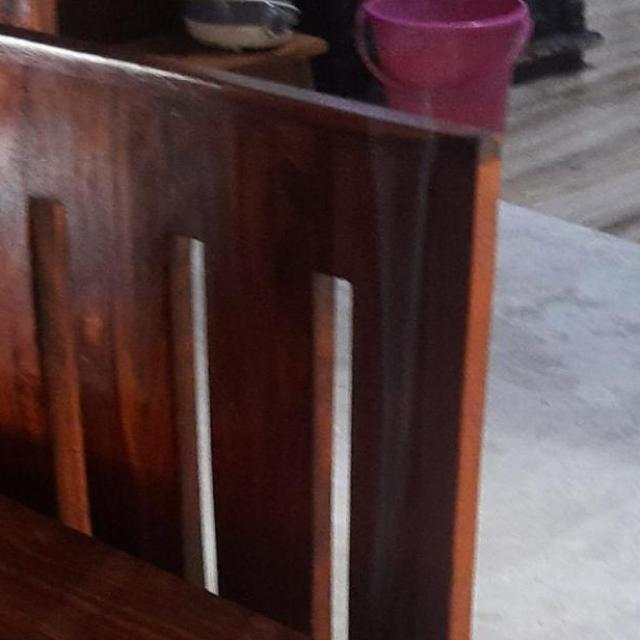fire: (362, 69, 445, 640)
